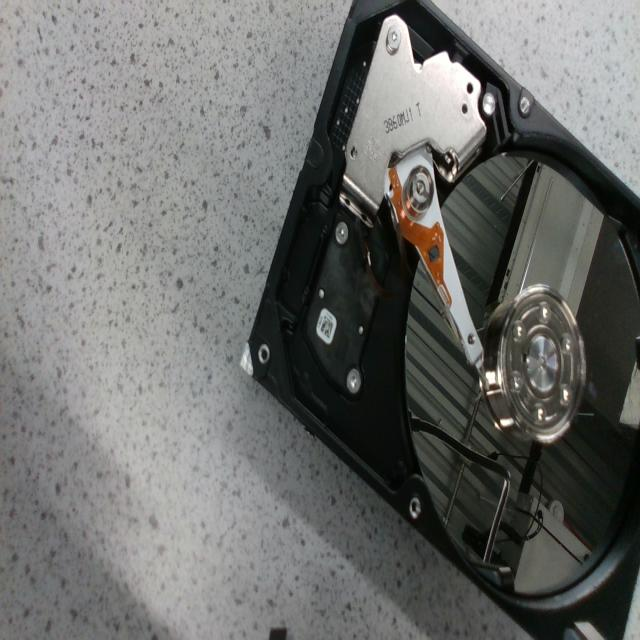actuator arm: (384, 148, 482, 364)
actuator axis: (406, 168, 431, 212)
case: (241, 0, 640, 639)
magnet: (344, 15, 486, 208)
pcb connector: (305, 222, 376, 395)
platter: (406, 151, 640, 593)
platter holder: (498, 285, 585, 444)
screw: (386, 25, 401, 53), (346, 368, 361, 394), (335, 221, 348, 244), (533, 402, 546, 423), (561, 332, 572, 355), (514, 320, 525, 343), (539, 302, 551, 323), (512, 370, 523, 391), (562, 385, 571, 405)
